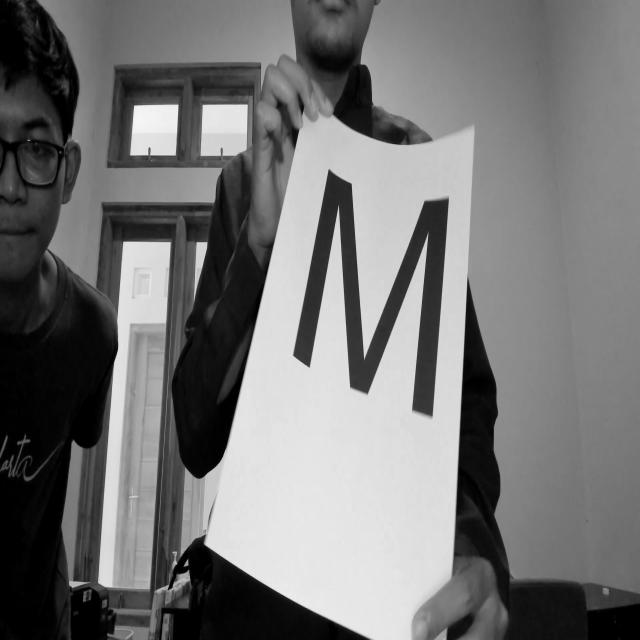m: (294, 150, 448, 430)
